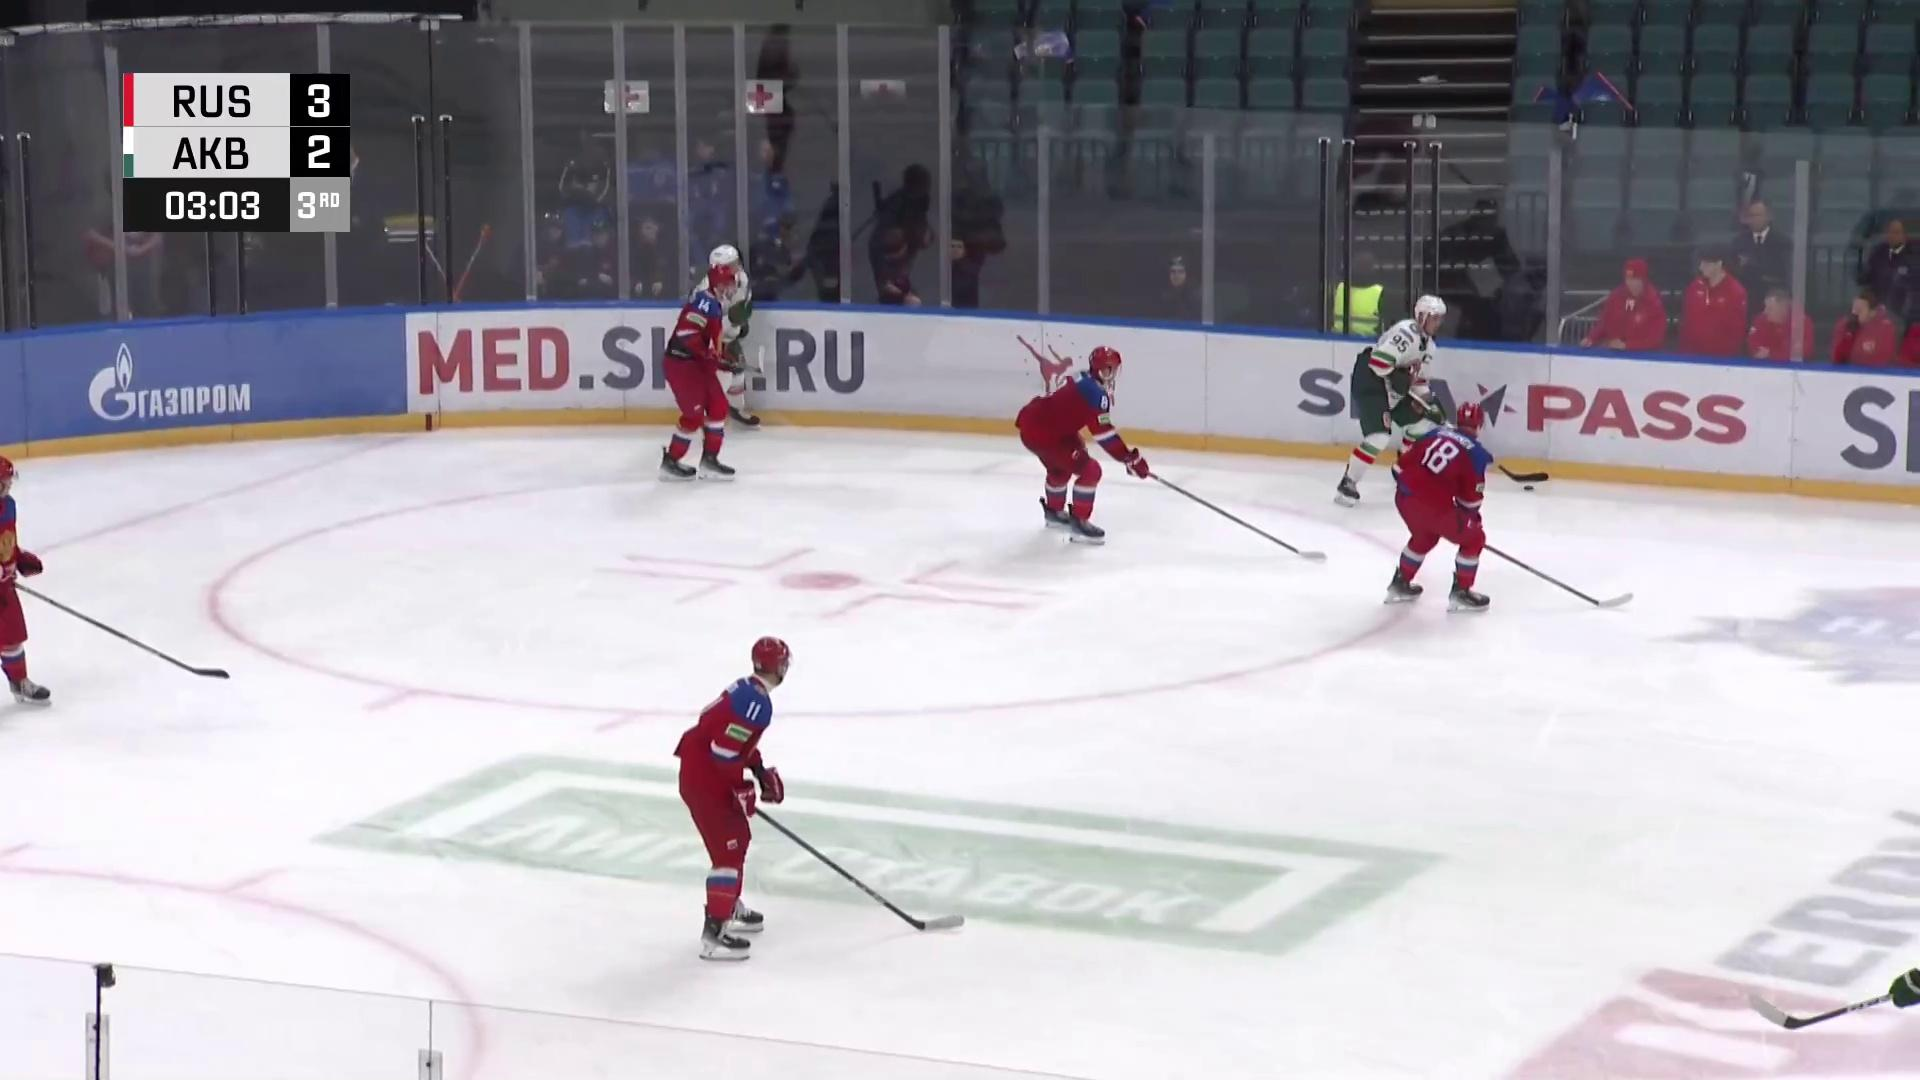ball: (1523, 485, 1535, 493)
